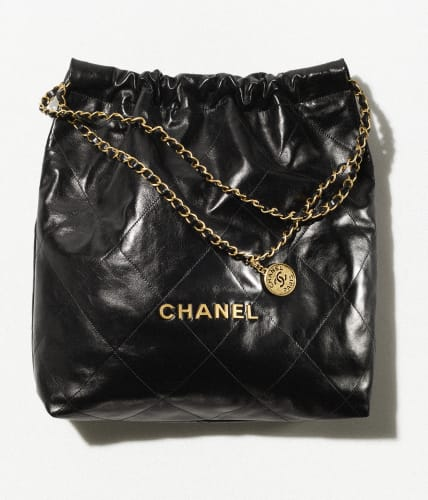channel: (31, 44, 409, 429), (136, 130, 259, 233), (143, 294, 273, 336), (265, 263, 300, 294)
